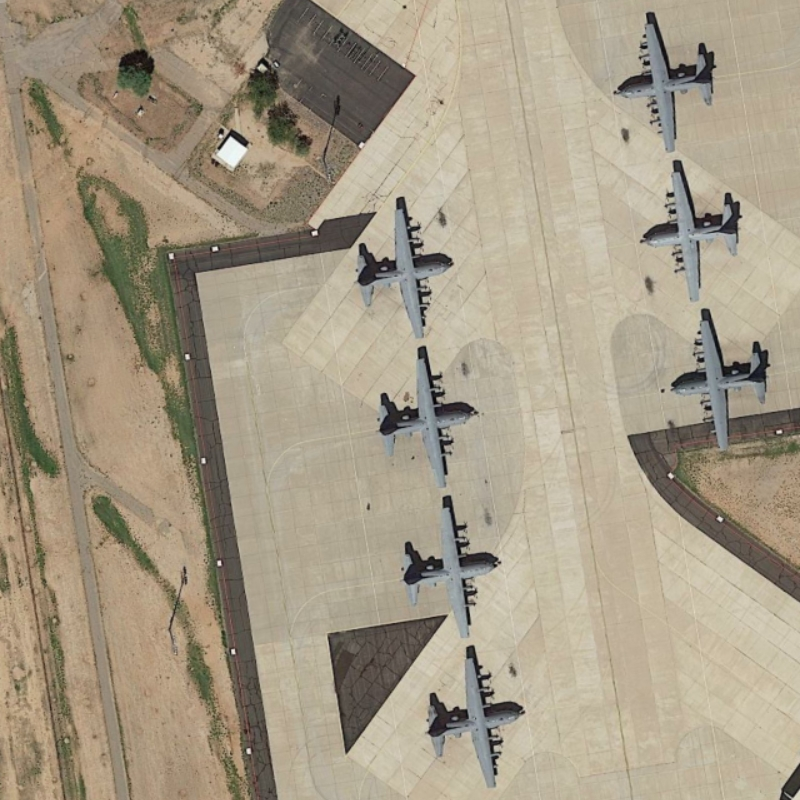A2: (370, 347, 486, 500), (393, 495, 508, 641), (609, 12, 724, 155), (663, 310, 776, 455), (419, 649, 532, 793), (347, 197, 457, 343), (639, 164, 748, 306)
